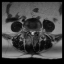CCS_stenosis: (31, 29, 33, 36)
LFS_severe_stenosis: (35, 29, 36, 33)
LLS_normal: (33, 29, 34, 35)
RFS_severe_stenosis: (27, 29, 29, 33)
RLS_stenosis: (30, 29, 31, 34)
